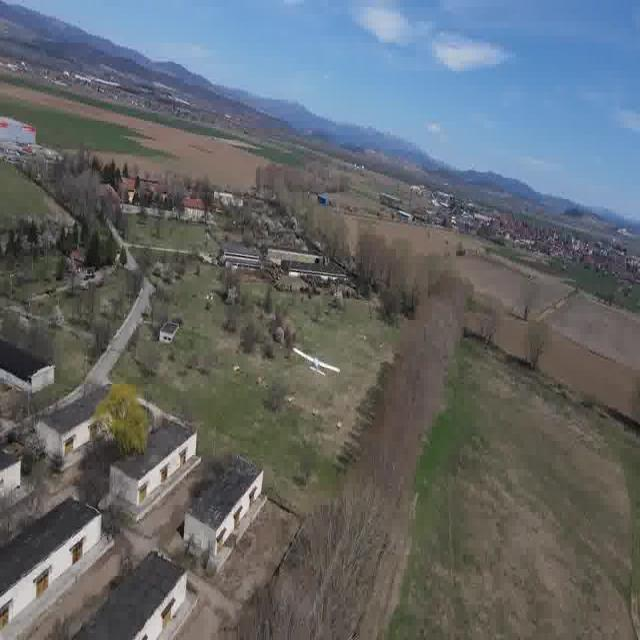iha: (292, 344, 346, 392)
